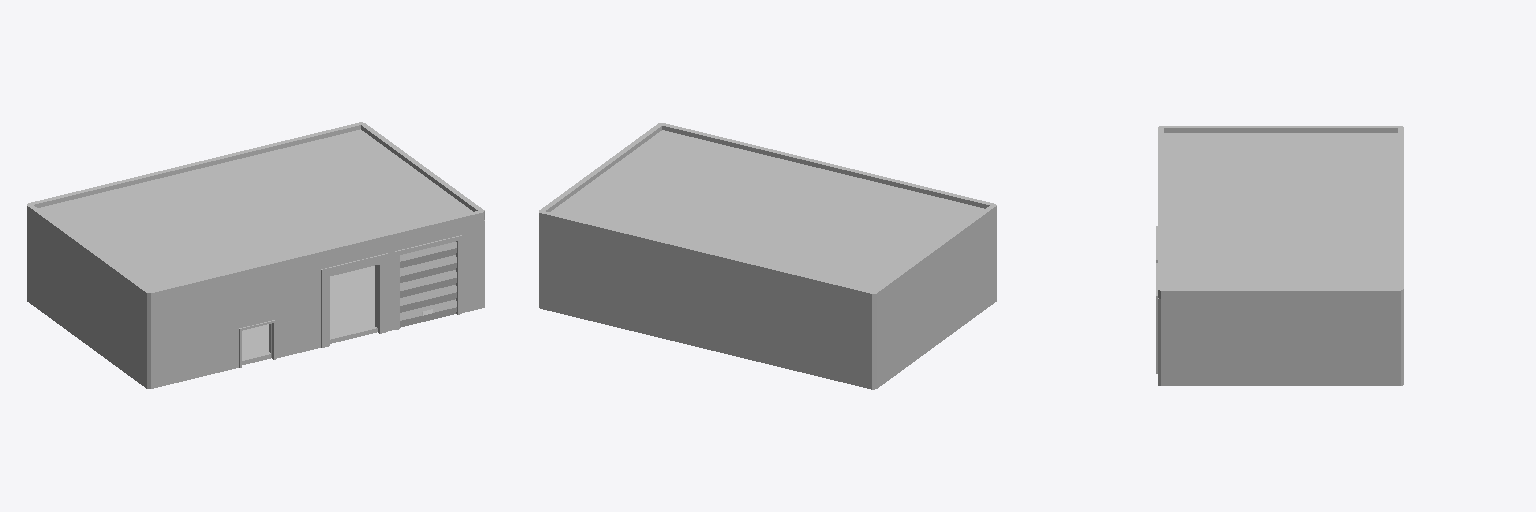
File: WorkshopModel.obj
3 views of the same model, side by side, from view 1: azimuth 30°, elevation 25°; view 2: azimuth 150°, elevation 25°; view 3: azimuth 270°, elevation 25° (orthographic).
Visible parts, largest first — view 1: mergedBlocks; view 2: mergedBlocks; view 3: mergedBlocks.
Boxes of the visible parts, box(x1,y1,x2,y2) form: mergedBlocks: box(27, 122, 484, 388); mergedBlocks: box(539, 123, 996, 389); mergedBlocks: box(1156, 126, 1403, 385).
Bounding box in the file's own units: 8.12 × 2.2 × 5.16.